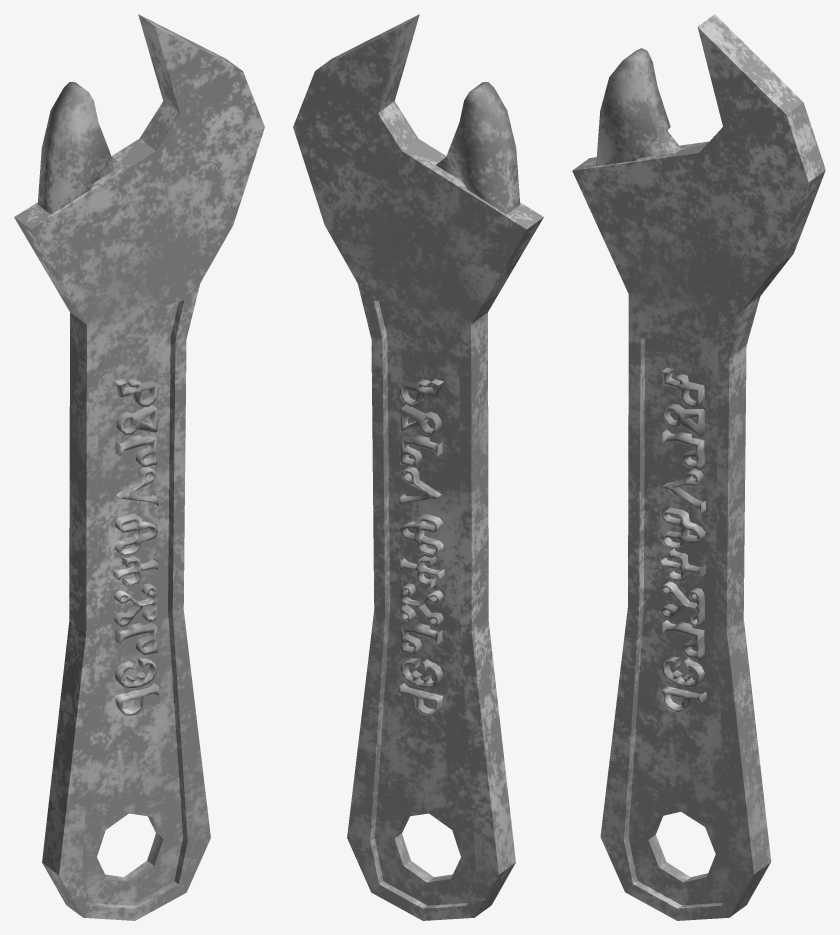
Rendered from Wrench.glb.
3 renders of one model, left to right at view 1: azimuth 30°, elevation 25°; view 2: azimuth 150°, elevation 25°; view 3: azimuth 330°, elevation 25°, orthographic.
Parts seen in each view (by area): view 1: Wrench_complex.001; view 2: Wrench_complex.001; view 3: Wrench_complex.001.
Boxes of the visible parts, <box> form: Wrench_complex.001: <box>14,14,264,920</box>; Wrench_complex.001: <box>293,14,543,920</box>; Wrench_complex.001: <box>572,14,825,920</box>.
Size of the model in its own units: 0.0508 by 0.1846 by 0.00646.
Materials: 1 (1 with a texture image).
